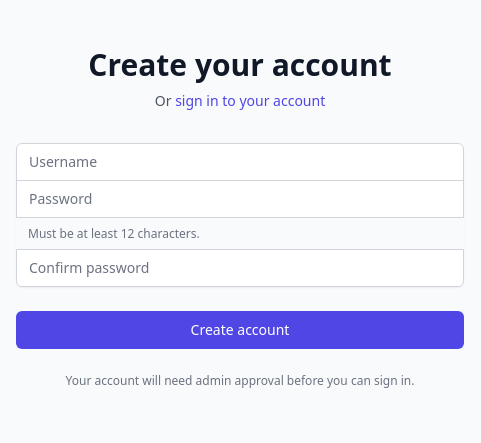
it: Register › shows a validation message when password is too short
This screenshot has width=481, height=443.
In the field labelled "Username": {"x": 240, "y": 162} [16,143,464,181], type "newuser"
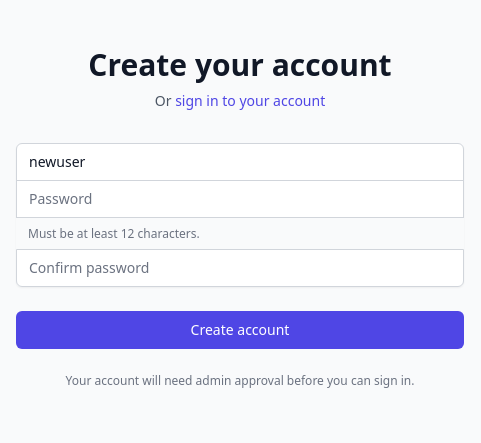
In the password field labelled "Password": {"x": 240, "y": 199} [16,180,464,218], type "short"
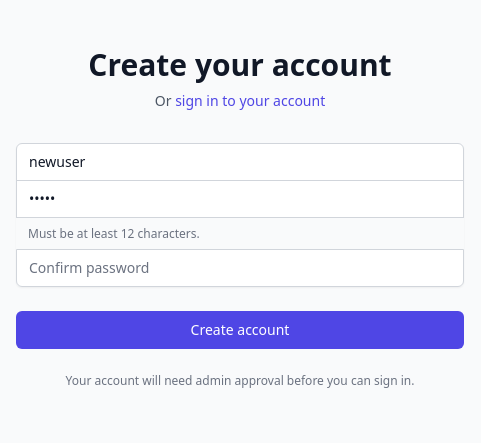
In the password field labelled "Confirm password": {"x": 240, "y": 268} [16,249,464,287], type "short"
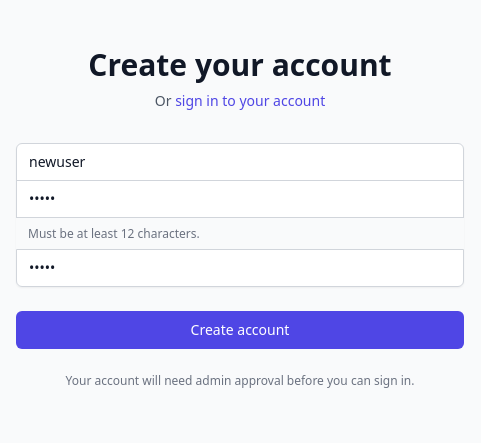
Click the button "Create account": {"x": 240, "y": 330} [16,311,464,349]
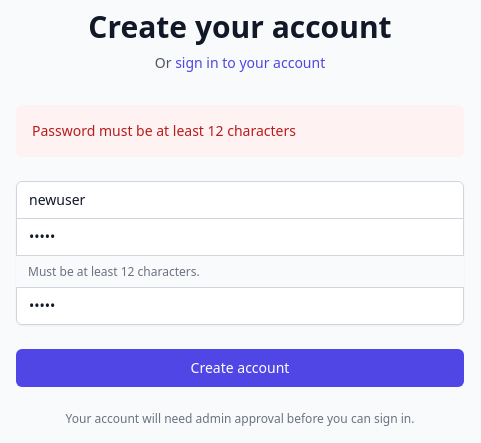
Expected: the text "Password must be at least 12 characters" is shown, [32,121,296,140]
